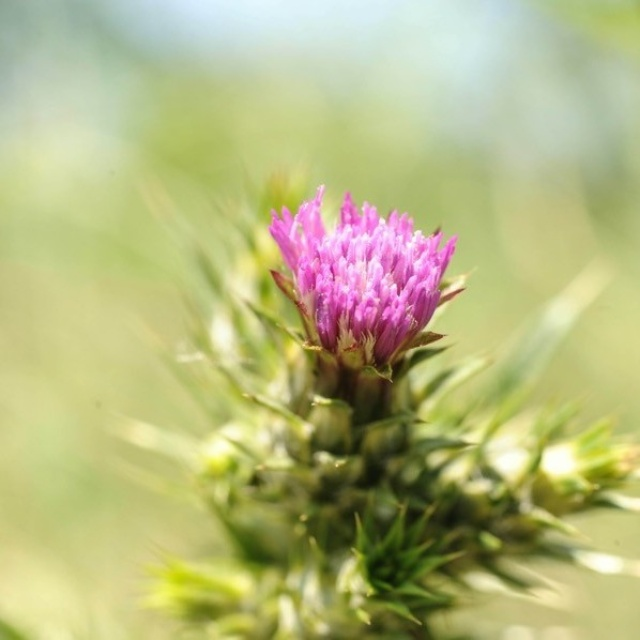obstacle: (231, 183, 534, 597)
